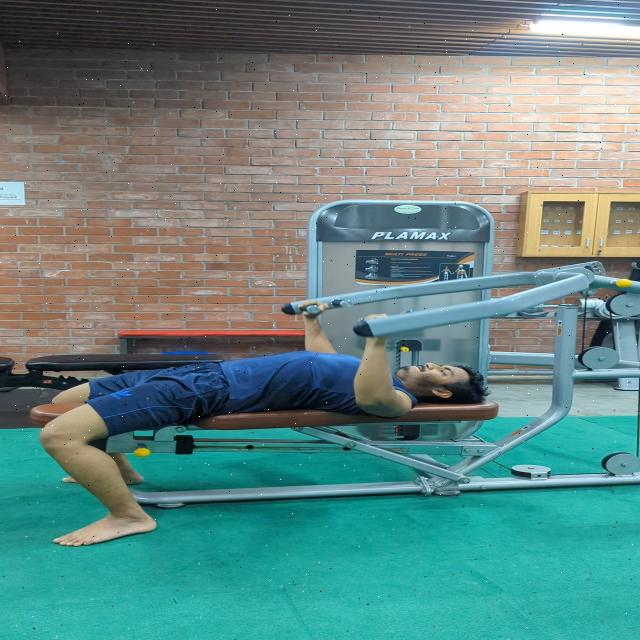Normal_BrenchPress: (22, 296, 557, 560)
